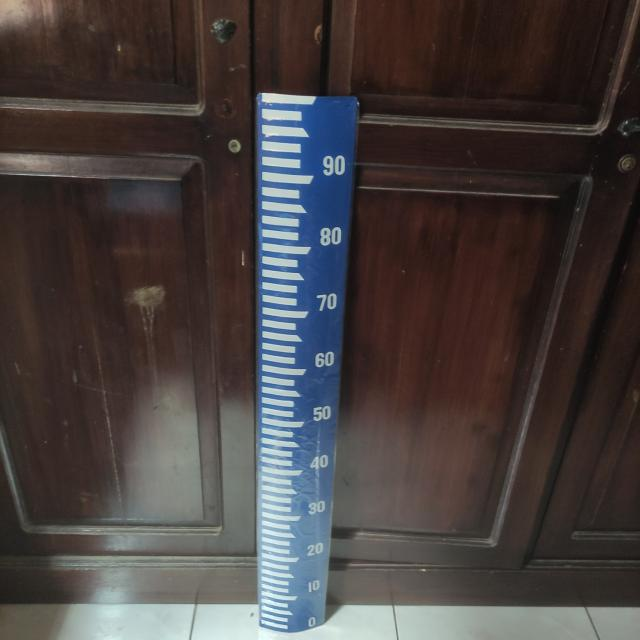ruler: (240, 78, 370, 639)
value: (317, 149, 351, 182), (314, 219, 347, 253), (308, 341, 341, 373), (308, 290, 344, 316), (308, 397, 336, 426), (304, 451, 336, 473), (302, 497, 330, 518), (302, 539, 328, 559), (303, 576, 324, 597), (302, 614, 320, 631)
